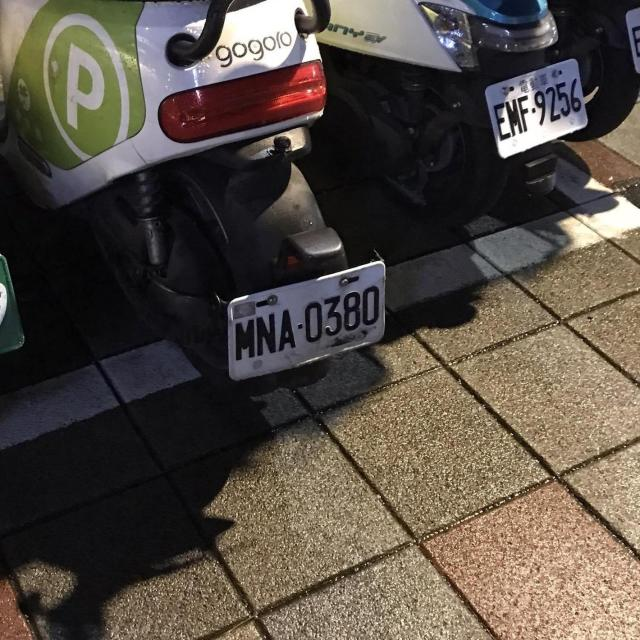W: (225, 260, 388, 382), (479, 55, 600, 164)
